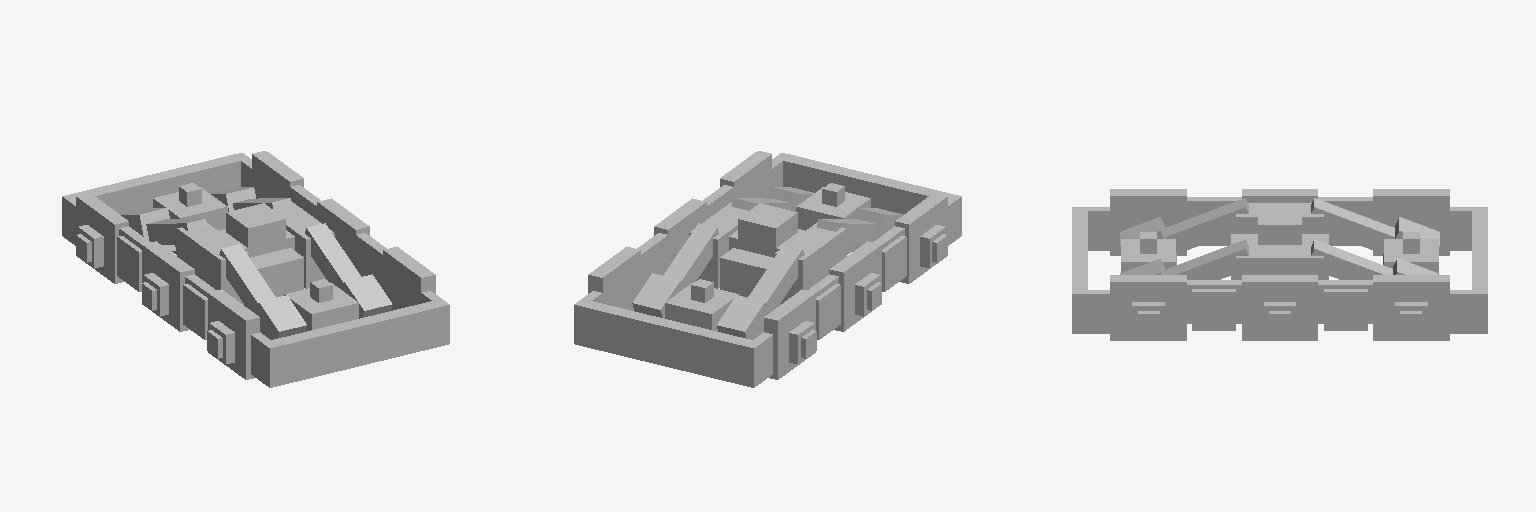
The model's file is frame.obj.
The picture shows the model from 3 angles: view 1: azimuth 30°, elevation 25°; view 2: azimuth 150°, elevation 25°; view 3: azimuth 270°, elevation 25°; orthographic projection.
Visible parts, largest first — view 1: cube_30, cube_16, cube_13, cube_41, cube_28, cube_27, cube_19, cube_12, cube_0, cube_15, cube_4, cube_6 (+20 smaller); view 2: cube_16, cube_30, cube_13, cube_32, cube_19, cube_27, cube_28, cube_12, cube_1, cube_14, cube_4, cube_9 (+20 smaller); view 3: cube_32, cube_41, cube_33, cube_19, cube_28, cube_5, cube_14, cube_15, cube_44, cube_45, cube_6, cube_9 (+21 smaller).
Boxes of the visible parts, <box> form: cube_30: <box>272,301,440,385</box>; cube_16: <box>72,155,240,214</box>; cube_13: <box>177,222,248,304</box>; cube_41: <box>383,247,435,310</box>; cube_28: <box>208,289,259,379</box>; cube_27: <box>142,241,194,331</box>; cube_19: <box>76,193,128,283</box>; cube_12: <box>226,203,285,247</box>; cube_0: <box>284,283,358,331</box>; cube_15: <box>219,244,275,313</box>; cube_4: <box>219,229,303,306</box>; cube_6: <box>305,223,360,289</box>; cube_16: <box>583,301,751,385</box>; cube_30: <box>783,155,951,214</box>; cube_13: <box>775,222,846,304</box>; cube_32: <box>588,247,640,310</box>; cube_19: <box>764,289,815,379</box>; cube_27: <box>829,241,881,331</box>; cube_28: <box>895,193,947,283</box>; cube_12: <box>738,203,797,247</box>; cube_1: <box>665,283,739,331</box>; cube_14: <box>748,244,804,313</box>; cube_4: <box>720,229,804,306</box>; cube_9: <box>663,223,718,288</box>; cube_32: <box>1373,275,1449,340</box>; cube_41: <box>1110,275,1186,340</box>; cube_33: <box>1242,275,1317,340</box>; cube_19: <box>1373,189,1449,255</box>; cube_28: <box>1110,189,1186,255</box>; cube_5: <box>1236,245,1323,279</box>; cube_14: <box>1311,198,1394,253</box>; cube_15: <box>1165,198,1248,253</box>; cube_44: <box>1192,289,1235,330</box>; cube_45: <box>1324,289,1367,330</box>; cube_6: <box>1165,239,1248,279</box>; cube_9: <box>1311,239,1392,279</box>.
Size of the model in its own units: 2.88 by 1.01 by 4.75.